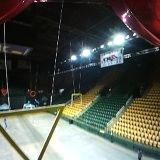Orange_Circle_GShape: (30, 91, 37, 97)
Orange_Triangle_Gshape: (1, 88, 10, 96)
Yellow_Square_GShape: (70, 93, 84, 107)
Yellow_Triangle_Gshape: (0, 104, 66, 160)
